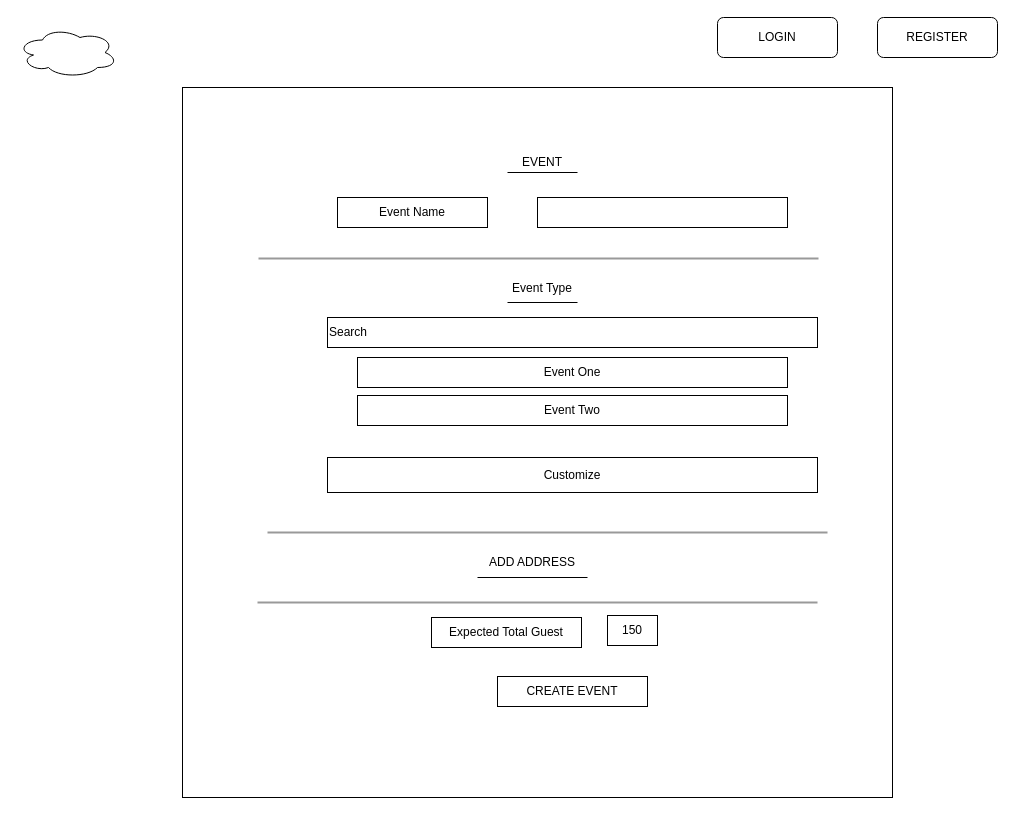
This 1015x815 diagram has some shape labels left out. The shapes that lost their labels are listed below. From the top down, each one's centre as x and y in pixels, then its label:
the point at 67,52: SmartEvent
the point at 662,212: Linda's 40th Birthday Celebration
